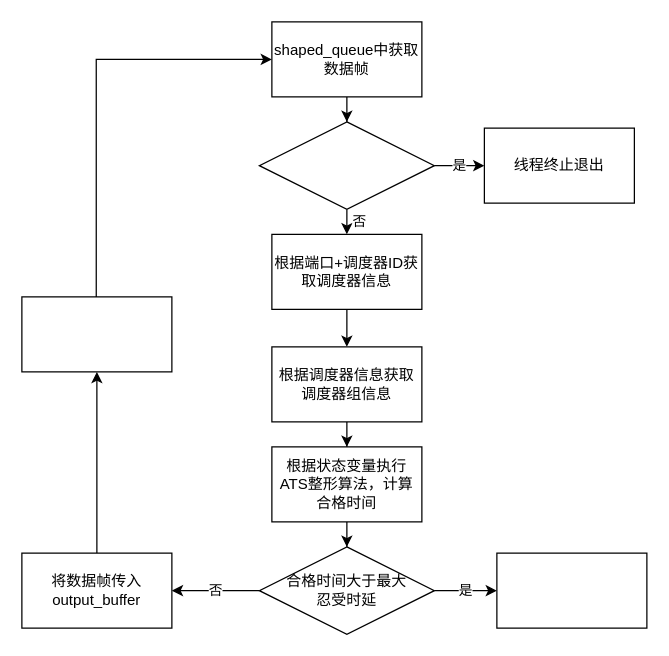
Some shapes in this 669 by 656 pixel diagram are drawn without their labels. The centre of each missing label's shape, as x and y in pixels:
"ATS调度器和ATS调度器组状态更新" goes at (96,334).
"丢弃帧" goes at (571,590).
"数据帧为空" goes at (346,165).
